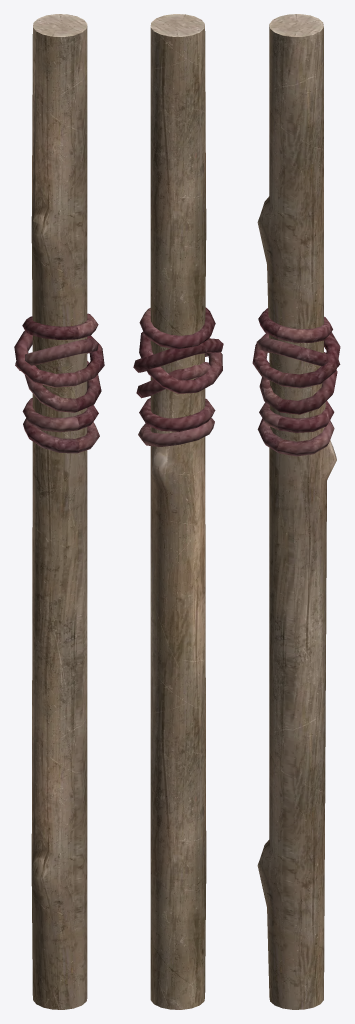
The picture shows the model from 3 angles, left to right: view 1: azimuth 30°, elevation 25°; view 2: azimuth 210°, elevation 25°; view 3: azimuth 330°, elevation 25°; orthographic projection.
Parts seen in each view (by area): view 1: SM_Garou_Set_SM_VerticalLog_01_1x6_LOD0; view 2: SM_Garou_Set_SM_VerticalLog_01_1x6_LOD0; view 3: SM_Garou_Set_SM_VerticalLog_01_1x6_LOD0.
Part boxes in pixels (box(x1,y1,x2,y2)): SM_Garou_Set_SM_VerticalLog_01_1x6_LOD0: box(14, 14, 104, 1009); SM_Garou_Set_SM_VerticalLog_01_1x6_LOD0: box(133, 14, 223, 1009); SM_Garou_Set_SM_VerticalLog_01_1x6_LOD0: box(252, 14, 340, 1009).
Size of the model in its own units: 0.5437 by 6.05 by 0.4462.
Materials: 1 (1 with a texture image).
